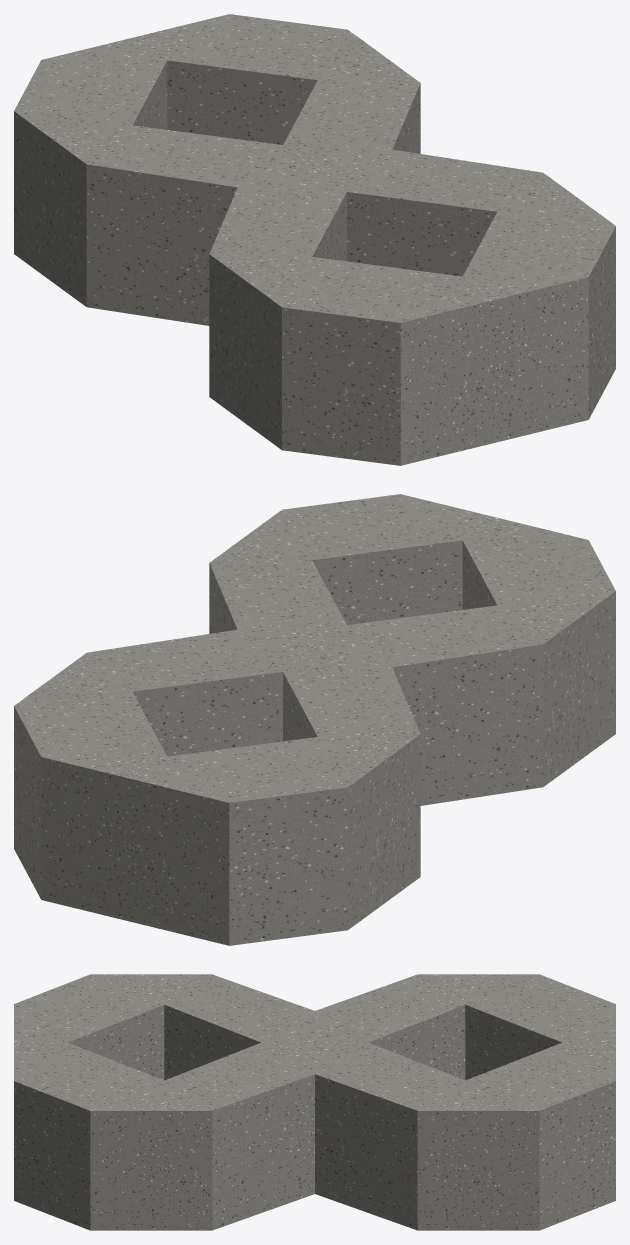
File: block-grass-tipo-8-v1.glb
3 renders of one model, top to bottom at view 1: azimuth 30°, elevation 25°; view 2: azimuth 150°, elevation 25°; view 3: azimuth 270°, elevation 25°, orthographic. The views are drawn at different scales.
Visible parts, largest first — view 1: Block_Grass_Tipo_8; view 2: Block_Grass_Tipo_8; view 3: Block_Grass_Tipo_8.
Part boxes in pixels (box(x1,y1,x2,y2)): Block_Grass_Tipo_8: box(14, 14, 615, 465); Block_Grass_Tipo_8: box(14, 494, 615, 945); Block_Grass_Tipo_8: box(14, 974, 615, 1230).
Bounding box in the file's own units: 0.22 × 0.09 × 0.41.
1 material, 1 textured.
